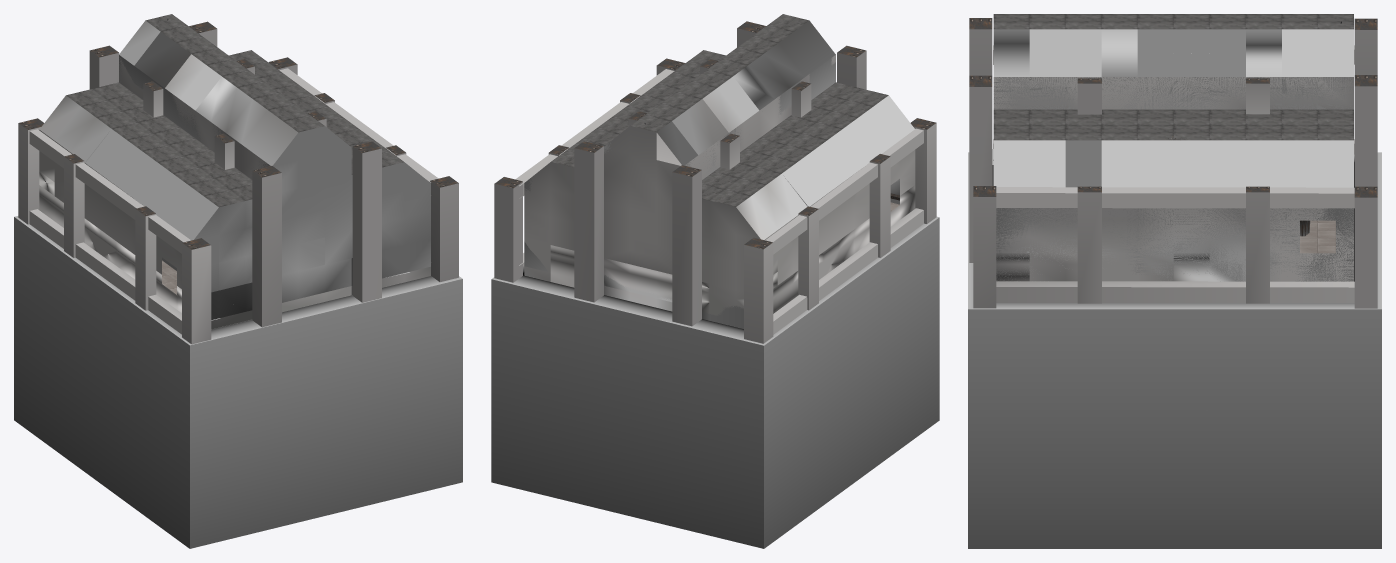
The model's file is factory_warehouse_ushape.fbx.
3 renders of one model, left to right at view 1: azimuth 30°, elevation 25°; view 2: azimuth 150°, elevation 25°; view 3: azimuth 270°, elevation 25°, orthographic. The views are drawn at different scales.
Visible parts, largest first — view 1: Baseplate, building, walls-inner, ceiling-inner, ceiling_outer; view 2: Baseplate, building, ceiling-inner, ceiling_outer, walls-inner; view 3: Baseplate, building, ceiling-inner, walls-inner, Floor.
Boxes of the visible parts, left/top/right/bottom form: Baseplate: left=14, top=216, right=462, bottom=548; building: left=18, top=21, right=458, bottom=344; walls-inner: left=85, top=55, right=430, bottom=319; ceiling-inner: left=66, top=14, right=403, bottom=240; ceiling_outer: left=39, top=20, right=298, bottom=179; Baseplate: left=491, top=216, right=939, bottom=548; building: left=494, top=21, right=936, bottom=343; ceiling-inner: left=551, top=14, right=914, bottom=206; ceiling_outer: left=657, top=20, right=835, bottom=239; walls-inner: left=524, top=57, right=835, bottom=328; Baseplate: left=968, top=152, right=1381, bottom=548; building: left=969, top=18, right=1377, bottom=308; ceiling-inner: left=993, top=14, right=1353, bottom=187; walls-inner: left=993, top=77, right=1353, bottom=281; Floor: left=1300, top=220, right=1335, bottom=253.
Size of what is drawn, in the model's own units: 4737 by 6317 by 5281.
